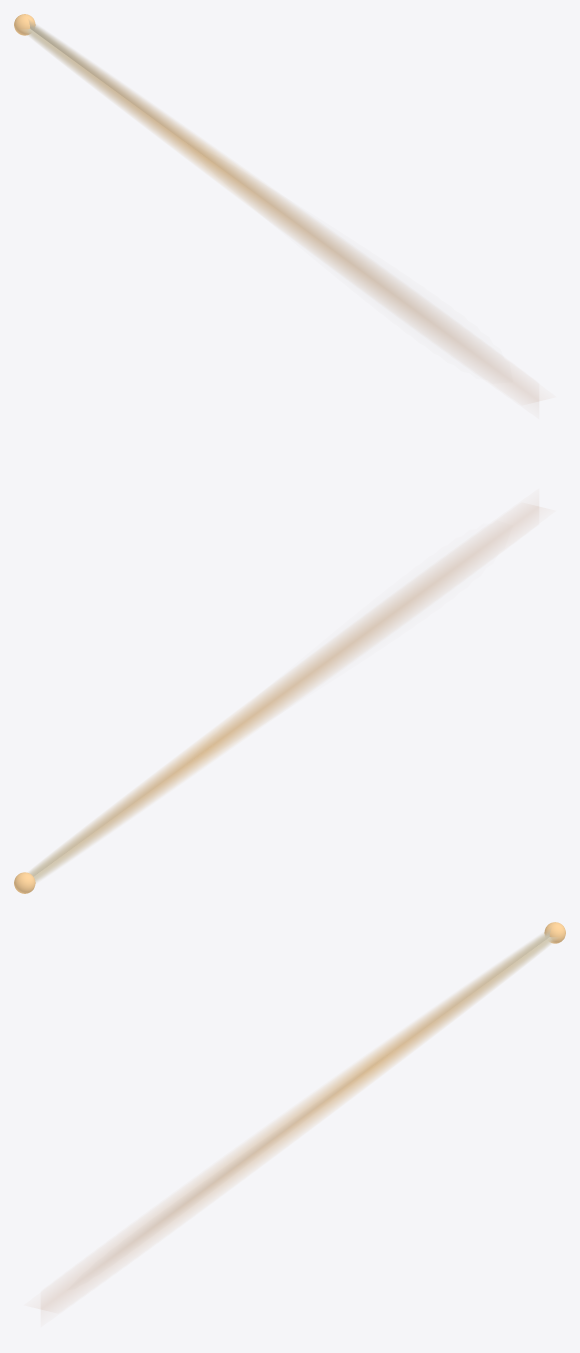
The model's file is vfx_tracer_hollowpoint.glb.
3 views of the same model, one above another, from view 1: azimuth 30°, elevation 25°; view 2: azimuth 150°, elevation 25°; view 3: azimuth 330°, elevation 25° (orthographic).
Parts seen in each view (by area): view 1: vfx_tracer_hollowpoint_streak_b, vfx_tracer_hollowpoint_streak_a; view 2: vfx_tracer_hollowpoint_streak_b, vfx_tracer_hollowpoint_streak_a; view 3: vfx_tracer_hollowpoint_streak_b, vfx_tracer_hollowpoint_streak_a.
Part boxes in pixels (x1,y1,x2,y2): vfx_tracer_hollowpoint_streak_b: (29,20,414,309); vfx_tracer_hollowpoint_streak_a: (23,26,411,308); vfx_tracer_hollowpoint_streak_b: (29,598,412,882); vfx_tracer_hollowpoint_streak_a: (29,598,414,881); vfx_tracer_hollowpoint_streak_b: (194,928,550,1196); vfx_tracer_hollowpoint_streak_a: (167,935,557,1217).
Bounding box in the file's own units: 0.06 × 0.0727 × 1.01.
